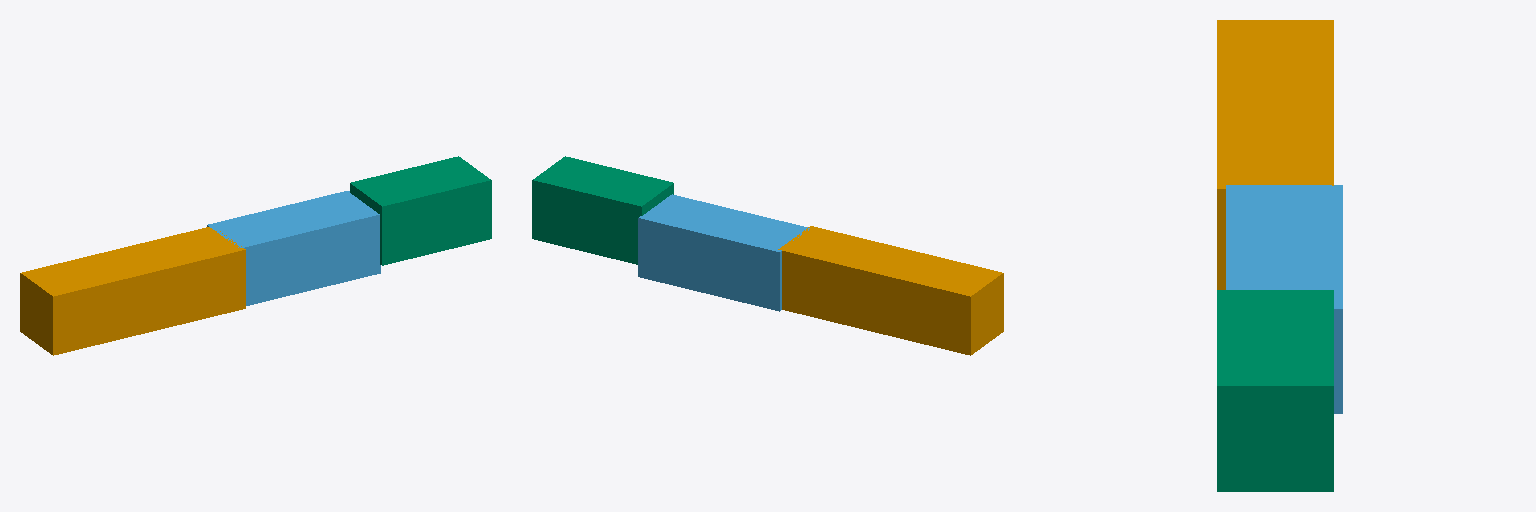
The robot description file, URDF, robot "3link_estimated":
<?xml version="1.0" ?>
<robot name="3link_estimated">
  <!--
     부위별 밀도를 로봇 측정으로 추정해 생성한 sim-ready 자산.
     가정: 각 부위 내부 밀도 균일, 측정 중 관절 고정.
     추정 밀도 [kg/m^3] (95% 구간):
       link0_base: 5199.6 +/- 4.1
       link1_elbow: 1400.8 +/- 10.3
       link2_tip: 699.6 +/- 2.7
  -->
  <link name="link0_base">
    <visual>
      <origin xyz="0.075000 0.000000 0.000000"/>
      <geometry>
        <box size="0.150000 0.044000 0.044000"/>
      </geometry>
    </visual>
    <collision>
      <origin xyz="0.075000 0.000000 0.000000"/>
      <geometry>
        <box size="0.150000 0.044000 0.044000"/>
      </geometry>
    </collision>
    <inertial>
      <origin xyz="0.075000 0.000000 0.000000"/>
      <mass value="1.498109"/>
      <inertia ixx="0.000483390" ixy="0.000000000" ixz="0.000000000" iyy="0.003050649" iyz="0.000000000" izz="0.003050649"/>
    </inertial>
  </link>
  <link name="link1_elbow">
    <visual>
      <origin xyz="0.049981 -0.023675 0.000000"/>
      <geometry>
        <box size="0.110000 0.044000 0.044000"/>
      </geometry>
    </visual>
    <collision>
      <origin xyz="0.049981 -0.023675 0.000000"/>
      <geometry>
        <box size="0.110000 0.044000 0.044000"/>
      </geometry>
    </collision>
    <inertial>
      <origin xyz="0.049981 -0.023675 0.000000"/>
      <mass value="0.332922"/>
      <inertia ixx="0.000120401" ixy="0.000055323" ixz="0.000000000" iyy="0.000458251" iyz="0.000000000" izz="0.000484456"/>
    </inertial>
  </link>
  <link name="link2_tip">
    <visual>
      <origin xyz="0.032698 0.000000 -0.019839"/>
      <geometry>
        <box size="0.085000 0.044000 0.044000"/>
      </geometry>
    </visual>
    <collision>
      <origin xyz="0.032698 0.000000 -0.019839"/>
      <geometry>
        <box size="0.085000 0.044000 0.044000"/>
      </geometry>
    </collision>
    <inertial>
      <origin xyz="0.032698 0.000000 -0.019839"/>
      <mass value="0.154505"/>
      <inertia ixx="0.000058581" ixy="0.000000000" ixz="0.000036176" iyy="0.000168242" iyz="0.000000000" izz="0.000146293"/>
    </inertial>
  </link>
  <joint name="joint1" type="revolute">
    <parent link="link0_base"/>
    <child link="link1_elbow"/>
    <origin xyz="0.152000 0.027000 0.000000"/>
    <axis xyz="0.0 0.0 1.0"/>
    <limit lower="0.000000" upper="3.141593" effort="10" velocity="1"/>
  </joint>
  <joint name="joint2" type="revolute">
    <parent link="link1_elbow"/>
    <child link="link2_tip"/>
    <origin xyz="0.114000 -0.027000 0.027000"/>
    <axis xyz="0.0 -1.0 0.0"/>
    <limit lower="0.000000" upper="3.141593" effort="10" velocity="1"/>
  </joint>
</robot>

--- What the picture shows (computed from the rendered views, not written in the file) ---
3 views of the same robot in one strip: view 1: azimuth 30°, elevation 25°; view 2: azimuth 150°, elevation 25°; view 3: azimuth 270°, elevation 25° (orthographic).
Model 3link_estimated with 3 links and 2 joints (2 revolute), rooted at link0_base, posed every joint at zero.
Links seen in each view (by area): view 1: link0_base, link1_elbow, link2_tip; view 2: link0_base, link1_elbow, link2_tip; view 3: link2_tip, link0_base, link1_elbow.
Link boxes in pixels (x1,y1,x2,y2): link0_base: (20, 227, 245, 355); link1_elbow: (207, 191, 380, 305); link2_tip: (350, 156, 491, 265); link0_base: (778, 226, 1003, 355); link1_elbow: (638, 194, 809, 311); link2_tip: (532, 156, 673, 264); link2_tip: (1217, 290, 1333, 491); link0_base: (1217, 20, 1333, 289); link1_elbow: (1226, 185, 1342, 413).
Bounding box of the posed robot: 0.3412 × 0.0473 × 0.0512 m (x, y, z).
Geometry: primitives only (box / cylinder / sphere), no mesh files.
